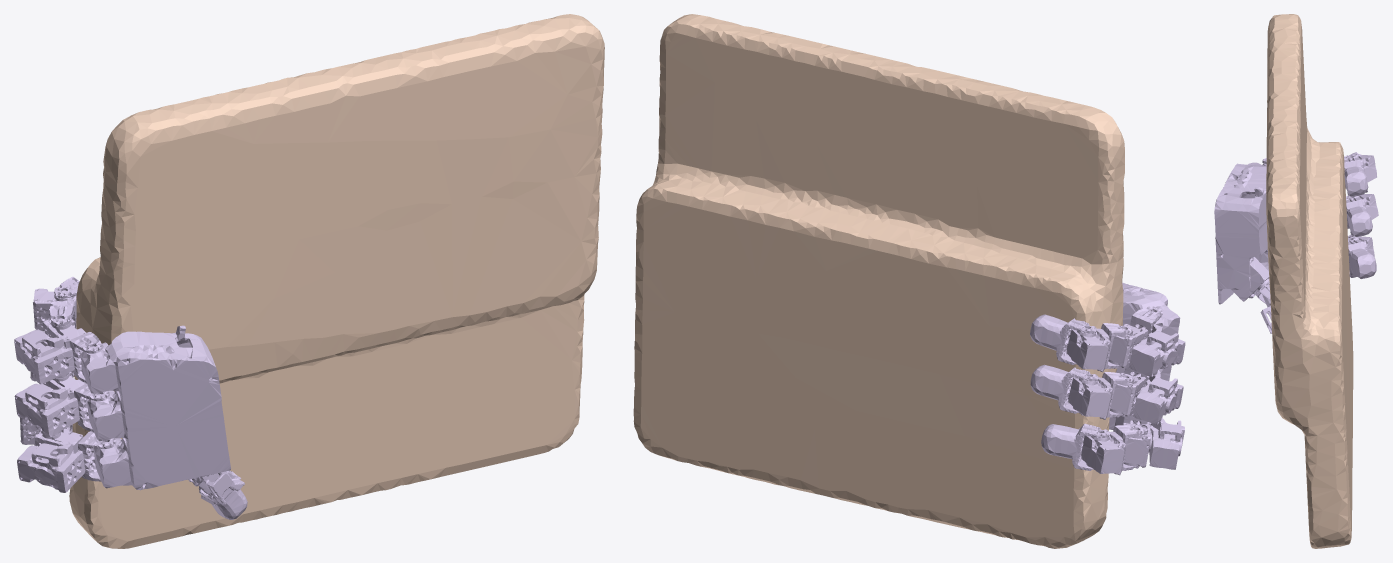
The model's file is 7a37d90e773c72-closed.glb.
The picture shows the model from 3 angles, left to right: view 1: azimuth 30°, elevation 25°; view 2: azimuth 150°, elevation 25°; view 3: azimuth 270°, elevation 25°; orthographic projection. The views are drawn at different scales.
Visible parts, largest first — view 1: world, LEAP_hand; view 2: world, LEAP_hand; view 3: world, LEAP_hand.
Part boxes in pixels (<box>): world: <box>69,14,604,548</box>; LEAP_hand: <box>14,276,247,519</box>; world: <box>633,14,1124,548</box>; LEAP_hand: <box>1030,282,1185,475</box>; world: <box>1266,14,1353,548</box>; LEAP_hand: <box>1214,152,1378,333</box>.
Size of the model in its own units: 0.5261 by 0.3982 by 0.1629.
